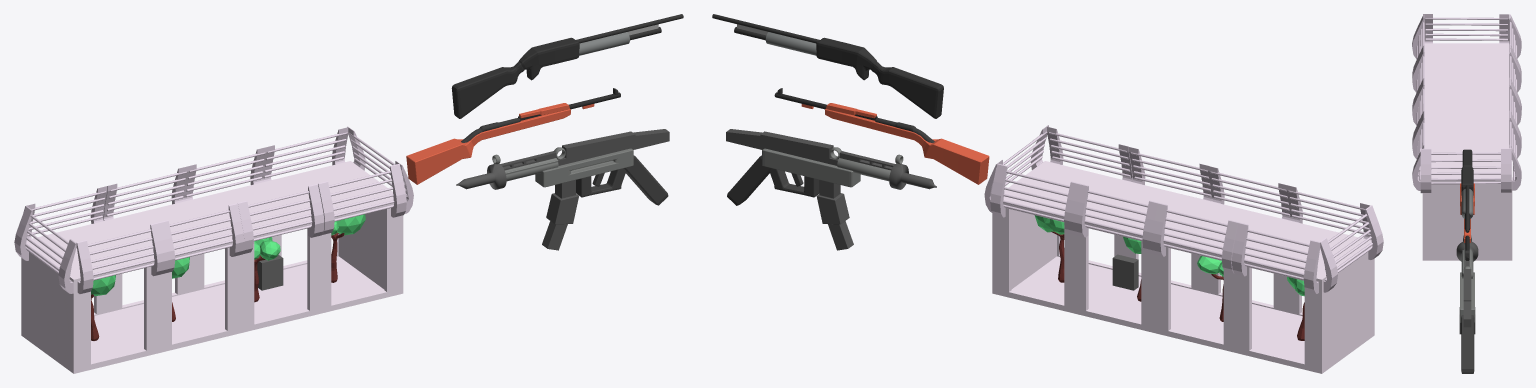
Rendered from parrlaxParkBuildfbx.fbx.
3 views of the same model, side by side, from view 1: azimuth 30°, elevation 25°; view 2: azimuth 150°, elevation 25°; view 3: azimuth 270°, elevation 25° (orthographic). The views are drawn at different scales.
Parts seen in each view (by area): view 1: Cube, Cube.016, Cube.013, Cube.009, Cylinder.006, Cylinder.005, Cylinder.007, Cylinder.004, Cylinder.009, Cylinder.001, Cylinder, Cylinder.003 (+6 smaller); view 2: Cube, Cube.016, Cube.013, Cube.009, Cylinder.002, Cylinder.001, Cylinder, Cylinder.003, Cylinder.009, Cylinder.005, Cylinder.007, Cylinder.004 (+4 smaller); view 3: Cube, Cube.016, Cylinder.008, Cylinder.009, Cube.013, Cylinder.001, Cylinder.005, Cylinder.006, Cylinder.002, Cylinder.007, Cylinder, Cylinder.003 (+2 smaller).
Part boxes in pixels (x1=…): Cube: x1=21, y1=161, x2=403, y2=373; Cube.016: x1=456, y1=129, x2=669, y2=250; Cube.013: x1=451, y1=14, x2=683, y2=118; Cube.009: x1=406, y1=88, x2=620, y2=184; Cylinder.006: x1=76, y1=222, x2=167, y2=293; Cylinder.005: x1=318, y1=164, x2=406, y2=234; Cylinder.007: x1=237, y1=184, x2=324, y2=253; Cylinder.004: x1=160, y1=203, x2=244, y2=273; Cylinder.009: x1=14, y1=206, x2=76, y2=293; Cylinder.001: x1=261, y1=127, x2=348, y2=182; Cylinder: x1=103, y1=166, x2=187, y2=220; Cylinder.003: x1=183, y1=147, x2=265, y2=201; Cube: x1=992, y1=161, x2=1374, y2=373; Cube.016: x1=726, y1=129, x2=936, y2=250; Cube.013: x1=712, y1=14, x2=943, y2=118; Cube.009: x1=774, y1=88, x2=989, y2=184; Cylinder.002: x1=1231, y1=222, x2=1320, y2=293; Cylinder.001: x1=990, y1=163, x2=1080, y2=235; Cylinder: x1=1151, y1=202, x2=1238, y2=273; Cylinder.003: x1=1072, y1=184, x2=1157, y2=253; Cylinder.009: x1=1320, y1=205, x2=1383, y2=292; Cylinder.005: x1=1047, y1=126, x2=1132, y2=181; Cylinder.007: x1=1128, y1=147, x2=1212, y2=201; Cylinder.004: x1=1208, y1=166, x2=1290, y2=220; Cube: x1=1422, y1=43, x2=1512, y2=260; Cube.016: x1=1456, y1=238, x2=1478, y2=373; Cylinder.008: x1=1420, y1=148, x2=1511, y2=193; Cylinder.009: x1=1423, y1=14, x2=1509, y2=43; Cube.013: x1=1461, y1=149, x2=1473, y2=232; Cylinder.001: x1=1509, y1=114, x2=1521, y2=190; Cylinder.005: x1=1412, y1=115, x2=1424, y2=190; Cylinder.006: x1=1412, y1=14, x2=1424, y2=75; Cylinder.002: x1=1509, y1=14, x2=1521, y2=74; Cylinder.007: x1=1412, y1=81, x2=1424, y2=141; Cylinder: x1=1509, y1=48, x2=1521, y2=109; Cylinder.003: x1=1509, y1=82, x2=1521, y2=140.
Size of the model in its own units: 1424 by 431 by 246.
